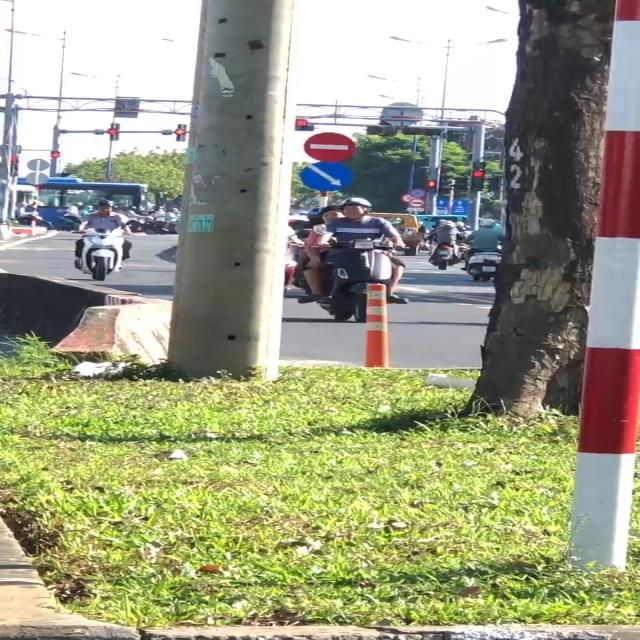Bien bao cam di nguoc chieu: (298, 129, 363, 164)
Bien bao huong phai di vong chuong ngai vat: (299, 160, 361, 195)
